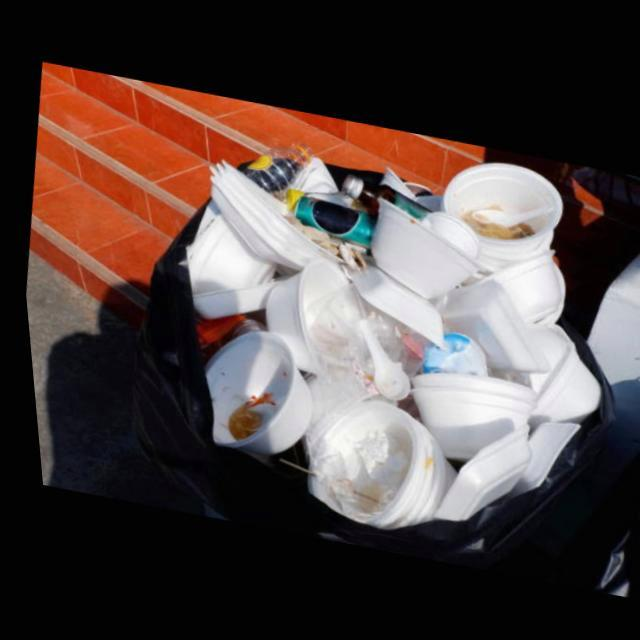aluminum: (291, 194, 374, 243)
plastic_bottle: (234, 140, 309, 199)
